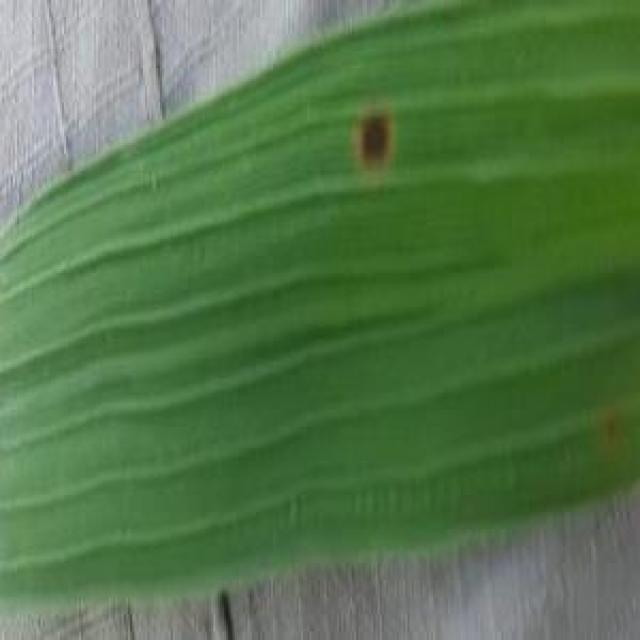brownspots: (346, 108, 416, 168)
